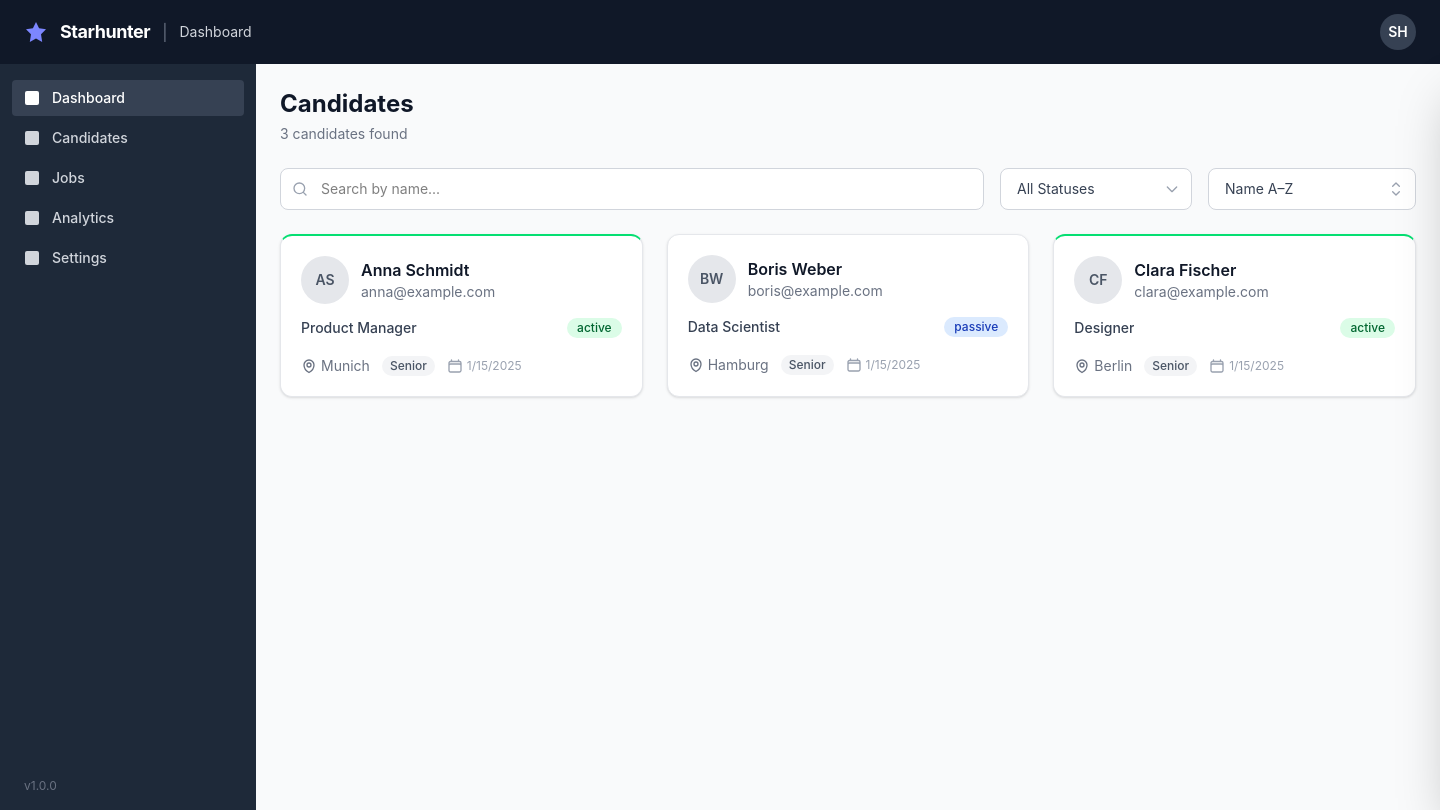
Scenario: Candidate list (integration) › filters by status dropdown (client-side)
The width and height of the screenshot is (1440, 810).
Expected: the text "Anna Schmidt" is shown, [361,260,469,280]
Note: The status dropdown should contain dynamically discovered statuses
Select "Passive" in the 1st dropdown showing "All Statuses" at (1096, 189), box [1000,168,1192,210]
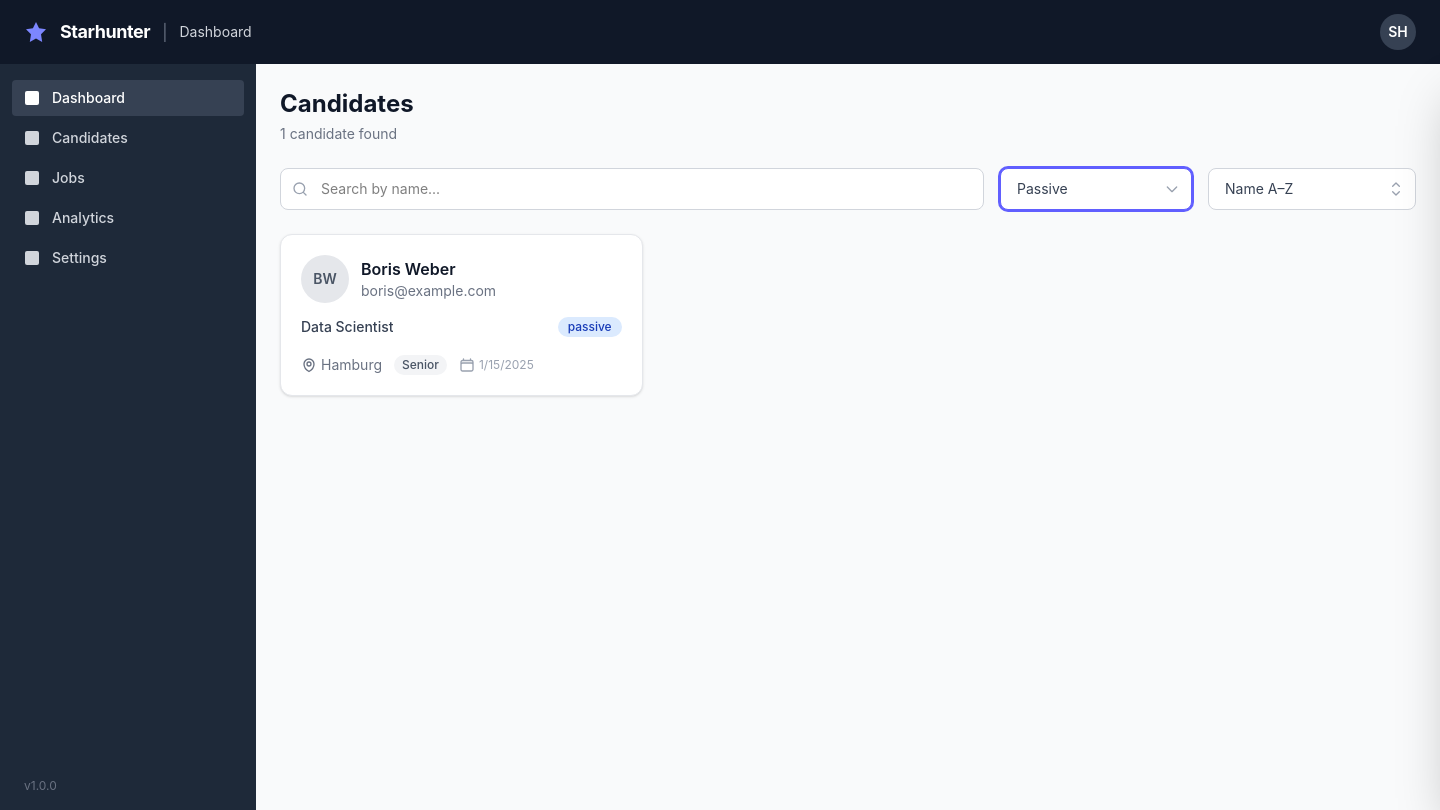
Expected: the text "Boris Weber" is shown, [361,259,456,279]
Expected: the text "Anna Schmidt" is gone
Expected: the text "Clara Fischer" is gone
